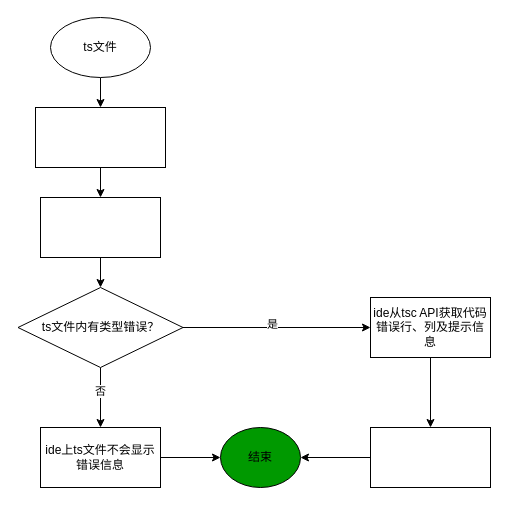
This 508x505 diagram has some shape labels left out. Here are the shapes that lost their labels. From the top down, the centre of each, then its label:
[100,137]: ide将文件内容送给tsc
[100,227]: tsc执行类型检查操作，而不编译生成js文件
[430,457]: 对ide当前打开的文件显示红色报错信息（下划线等形式）
